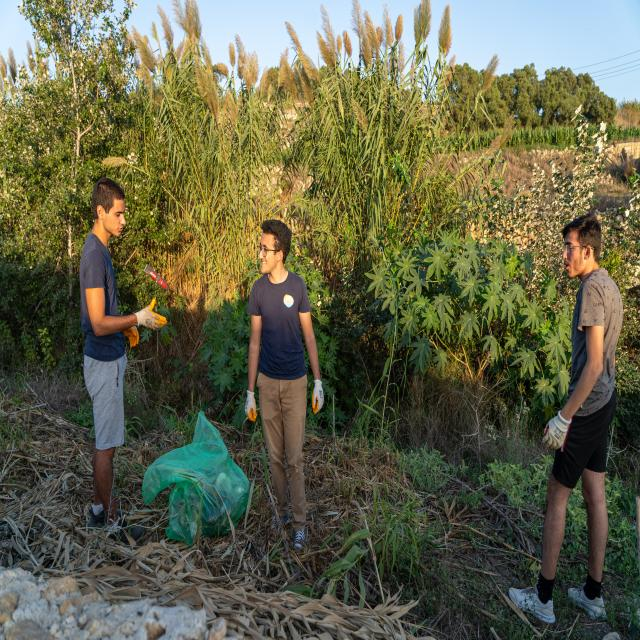Other litter: (143, 263, 169, 291)
Plastic bag - wrapper: (142, 408, 251, 547)
